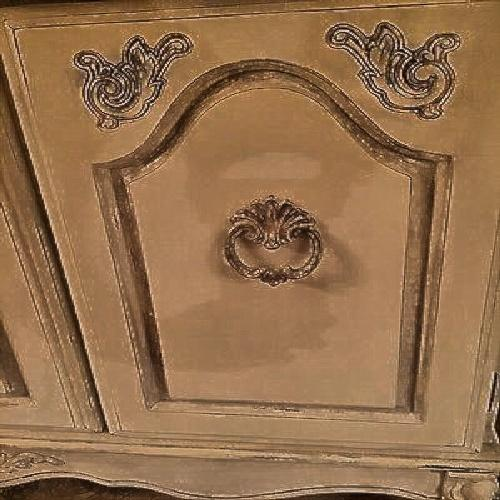cabinet: (30, 18, 479, 482)
